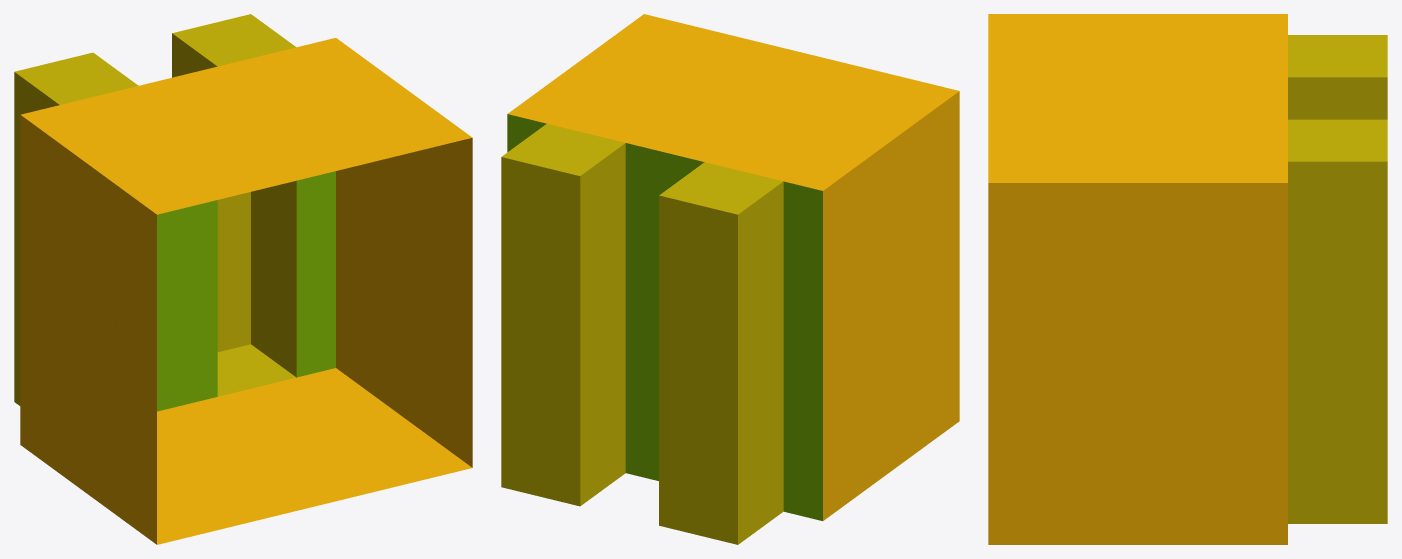
The model's file is slitted_block_surface.dae.
The picture shows the model from 3 angles, left to right: view 1: azimuth 30°, elevation 25°; view 2: azimuth 150°, elevation 25°; view 3: azimuth 270°, elevation 25°; orthographic projection. The views are drawn at different scales.
Parts seen in each view (by area): view 1: Cube; view 2: Cube; view 3: Cube.
Part boxes in pixels (box(x1,y1,x2,y2)): Cube: box(14, 14, 472, 544); Cube: box(501, 14, 959, 544); Cube: box(988, 14, 1387, 544).
Bounding box in the file's own units: 0.25 × 0.25 × 0.25.
